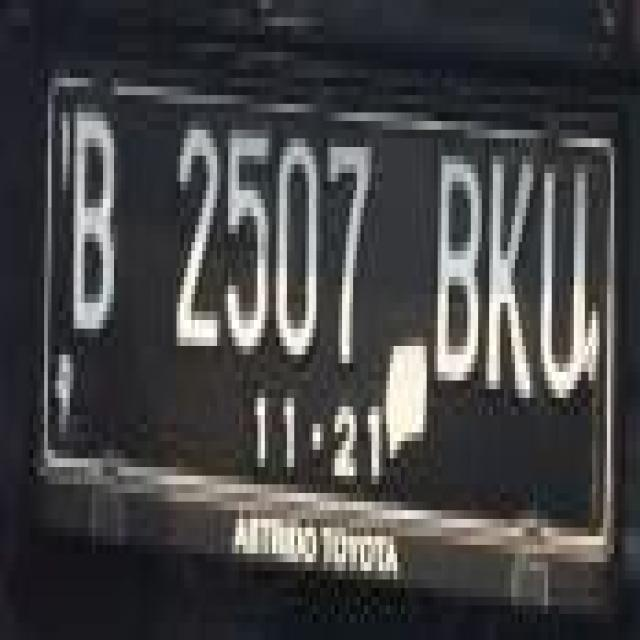0: (274, 125, 322, 368)
2: (175, 121, 222, 363)
5: (227, 121, 270, 363)
7: (322, 134, 377, 368)
B: (430, 147, 482, 407), (70, 90, 118, 342)
K: (484, 147, 539, 407)
U: (537, 143, 592, 420)
